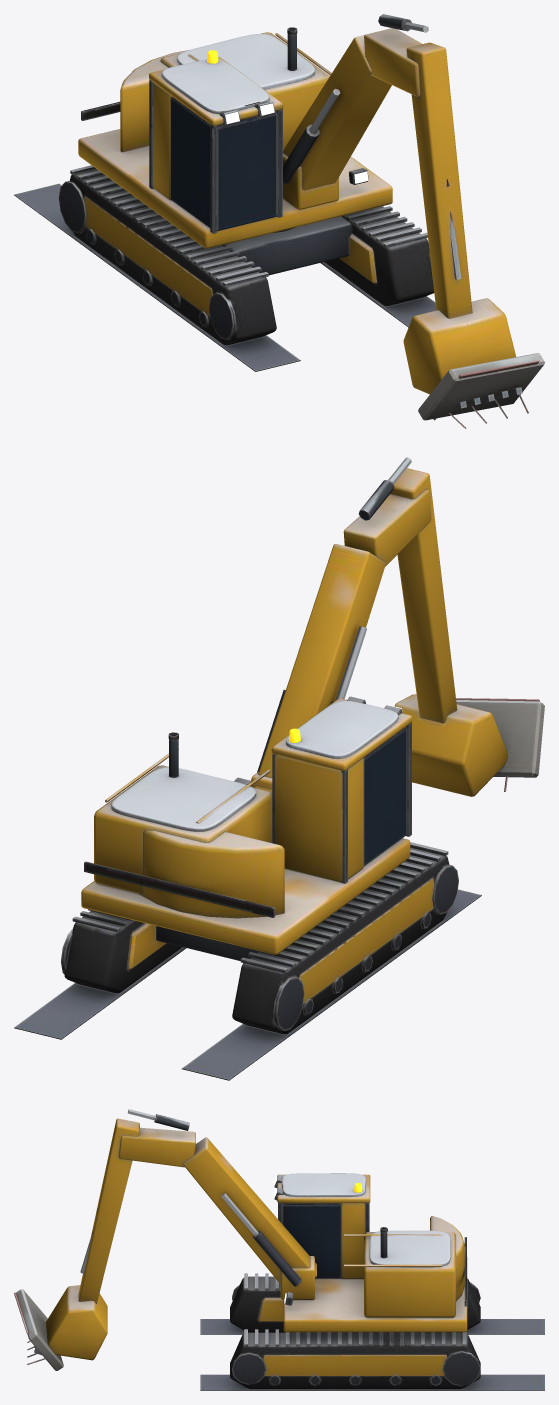
File: excavator.glb
The picture shows the model from 3 angles, top to bottom: view 1: azimuth 30°, elevation 25°; view 2: azimuth 150°, elevation 25°; view 3: azimuth 270°, elevation 25°; orthographic projection. The views are drawn at different scales.
Parts seen in each view (by area): view 1: excavator, excavator_glow; view 2: excavator; view 3: excavator.
Part boxes in pixels (x1,y1,x2,y2): excavator: [14, 14, 544, 428]; excavator_glow: [207, 50, 368, 183]; excavator: [14, 457, 544, 1080]; excavator: [14, 1109, 544, 1390].
Bounding box in the file's own units: 2.96 × 4.84 × 9.24.
3 materials, 1 textured.
